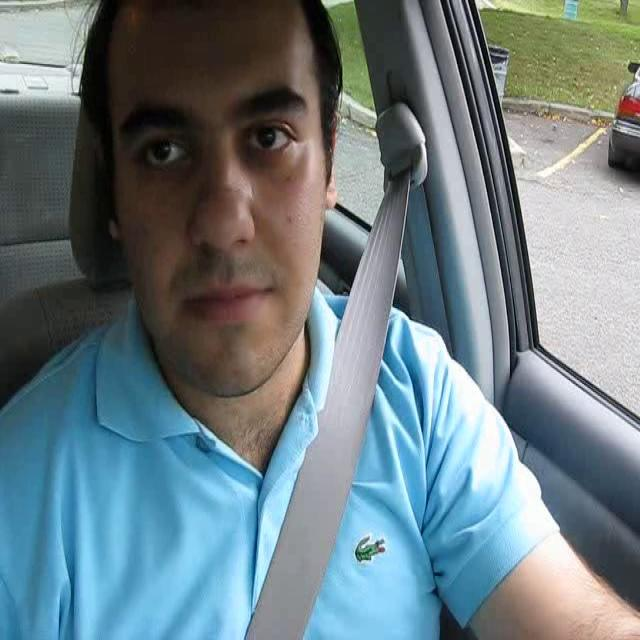close: (180, 274, 274, 328)
